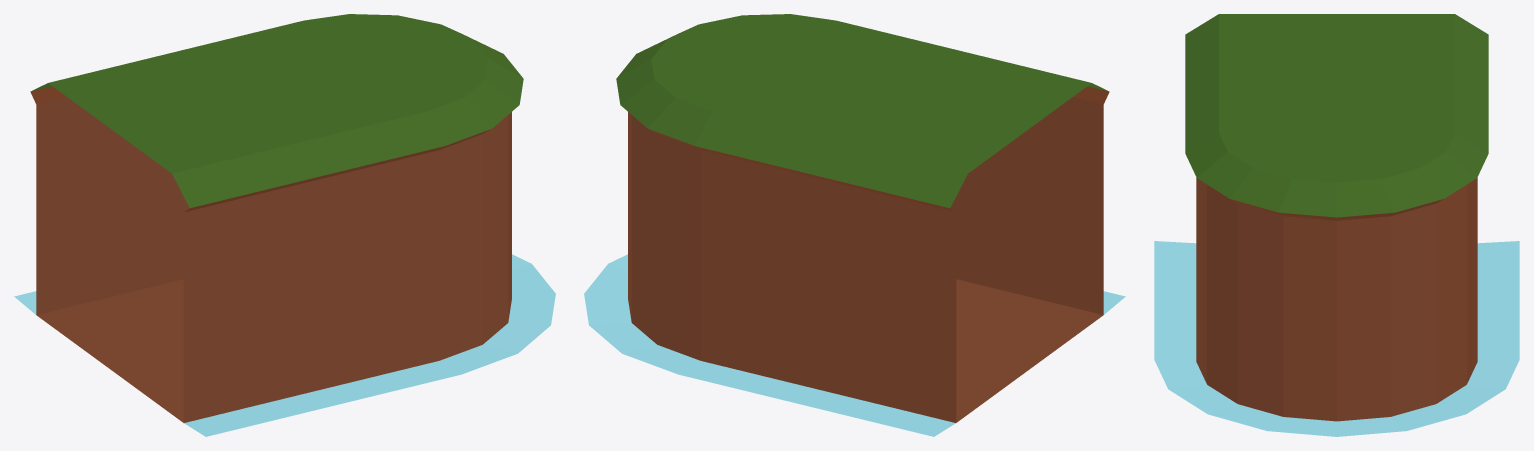
Rendered from tile_island_end.glb.
3 renders of one model, left to right at view 1: azimuth 30°, elevation 25°; view 2: azimuth 150°, elevation 25°; view 3: azimuth 270°, elevation 25°, orthographic. The views are drawn at different scales.
Visible parts, largest first — view 1: tile_island_end; view 2: tile_island_end; view 3: tile_island_end.
Part boxes in pixels (x1=…): tile_island_end: x1=14, y1=14, x2=555, y2=436; tile_island_end: x1=584, y1=14, x2=1125, y2=436; tile_island_end: x1=1154, y1=14, x2=1519, y2=436.
Size of the model in its own units: 0.66 by 0.36 by 0.52.
Materials: 1 (1 with a texture image).
